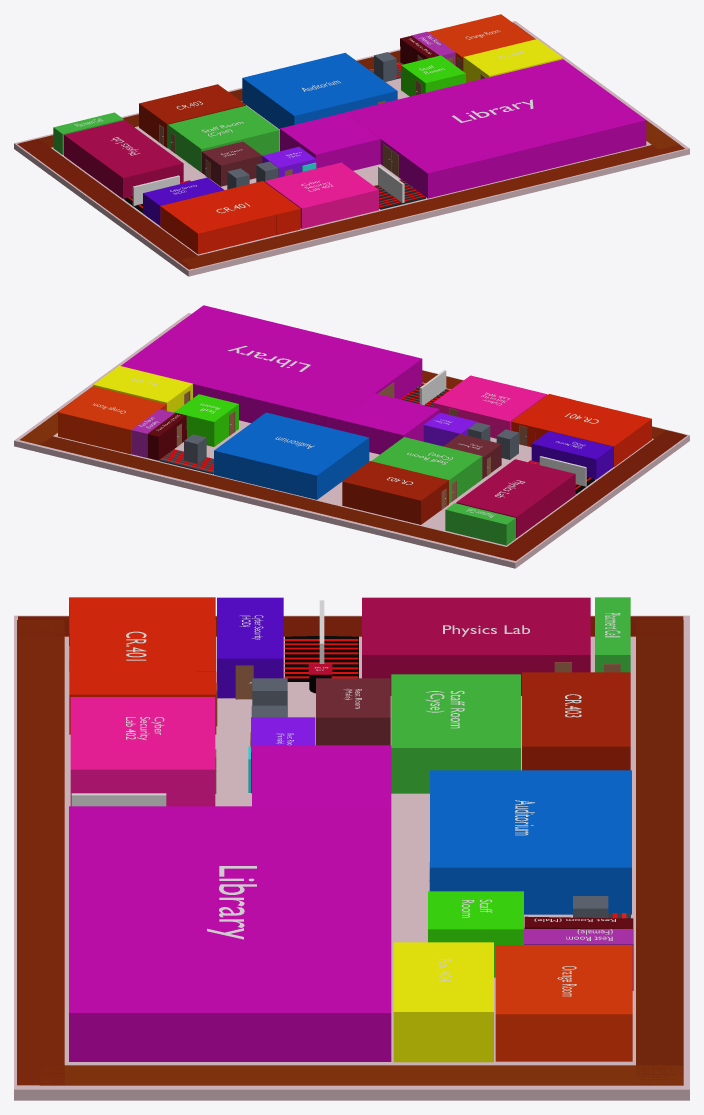
File: map1.glb
3 renders of one model, top to bottom at view 1: azimuth 30°, elevation 25°; view 2: azimuth 150°, elevation 25°; view 3: azimuth 270°, elevation 25°, orthographic. The views are drawn at different scales.
Parts seen in each view (by area): view 1: Cube.005, Cube, Cube.023, Cube.009, Cube.025, Cube.002, Cube.007, Cube.015, Cube.012, Cube.026, Cube.016, Cube.018 (+14 smaller); view 2: Cube.005, Cube.023, Cube, Cube.024, Cube.009, Cube.002, Cube.016, Cube.018, Cube.026, Cube.007, Cube.012, Cube.015 (+15 smaller); view 3: Cube.005, Cube, Cube.023, Cube.025, Cube.024, Cube.002, Cube.018, Cube.009, Cube.007, Cube.015, Cube.027, Cube.017 (+15 smaller).
Boxes of the visible parts, bbox=[...] form: Cube.005: bbox=[345, 59, 646, 198]; Cube: bbox=[14, 21, 689, 276]; Cube.023: bbox=[242, 52, 397, 129]; Cube.009: bbox=[160, 181, 300, 254]; Cube.025: bbox=[181, 144, 684, 268]; Cube.002: bbox=[64, 120, 183, 198]; Cube.007: bbox=[264, 162, 378, 228]; Cube.015: bbox=[168, 105, 279, 172]; Cube.012: bbox=[280, 112, 380, 170]; Cube.026: bbox=[17, 139, 197, 269]; Cube.016: bbox=[139, 84, 245, 148]; Cube.018: bbox=[428, 14, 535, 70]; Cube.005: bbox=[121, 305, 422, 429]; Cube.023: bbox=[214, 412, 369, 499]; Cube: bbox=[14, 313, 689, 568]; Cube.024: bbox=[29, 436, 520, 560]; Cube.009: bbox=[511, 394, 651, 466]; Cube.002: bbox=[456, 459, 575, 537]; Cube.016: bbox=[342, 461, 448, 524]; Cube.018: bbox=[58, 386, 166, 454]; Cube.026: bbox=[495, 430, 687, 560]; Cube.007: bbox=[433, 375, 547, 438]; Cube.012: bbox=[339, 393, 439, 454]; Cube.015: bbox=[371, 437, 482, 503]; Cube.005: bbox=[69, 806, 391, 1061]; Cube: bbox=[14, 615, 689, 1100]; Cube.023: bbox=[430, 770, 631, 914]; Cube.025: bbox=[17, 620, 64, 1085]; Cube.024: bbox=[636, 620, 683, 1085]; Cube.002: bbox=[362, 597, 590, 695]; Cube.018: bbox=[495, 945, 632, 1061]; Cube.009: bbox=[69, 597, 216, 734]; Cube.007: bbox=[70, 697, 215, 806]; Cube.015: bbox=[391, 674, 520, 793]; Cube.027: bbox=[39, 1065, 683, 1085]; Cube.017: bbox=[393, 942, 493, 1062].
Bounding box in the file's own units: 14.93 × 1.01 × 9.
